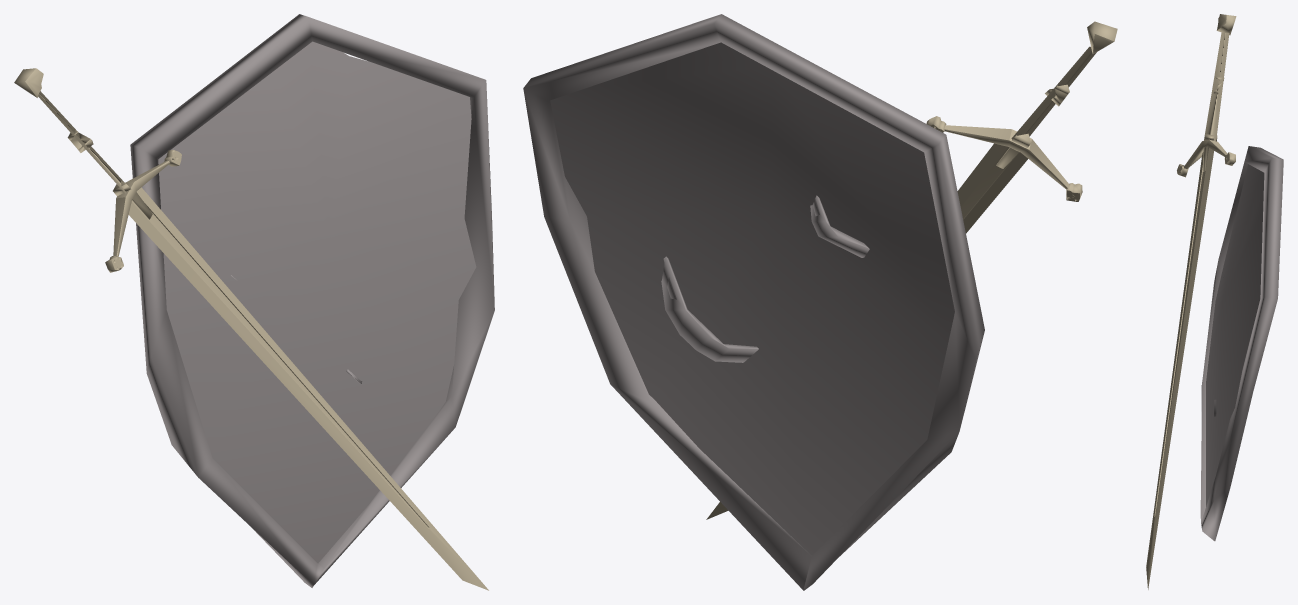
The model's file is crusader-shield.lod0.glb.
3 renders of one model, left to right at view 1: azimuth 30°, elevation 25°; view 2: azimuth 150°, elevation 25°; view 3: azimuth 270°, elevation 25°, orthographic. The views are drawn at different scales.
Visible parts, largest first — view 1: Object_2; view 2: Object_2; view 3: Object_2.
Boxes of the visible parts, x1,y1,x2,y2 form: Object_2: [14, 14, 494, 590]; Object_2: [523, 14, 1117, 590]; Object_2: [1146, 14, 1283, 589].
Bounding box in the file's own units: 0.9533 × 1.07 × 0.3089.
